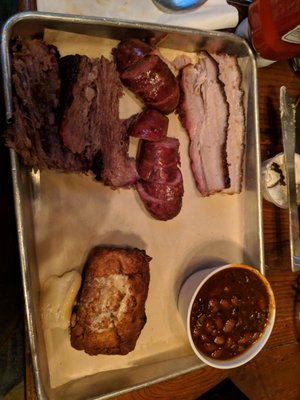sushi: (182, 264, 277, 370)
